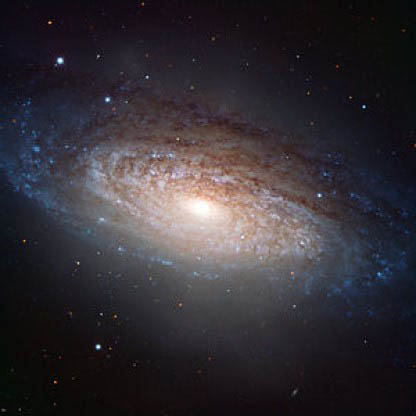NGC 3521: (8, 38, 403, 324)
